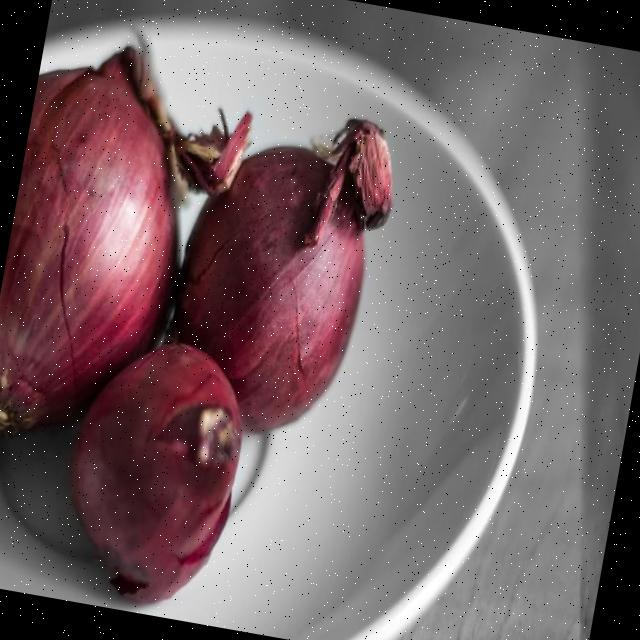Onion: (177, 120, 392, 431), (0, 53, 175, 433)
